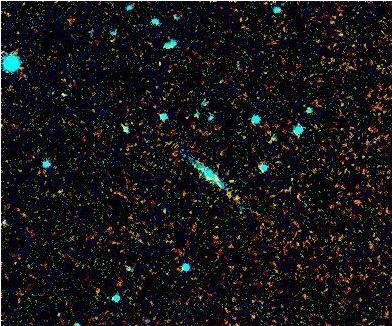star: (222, 184, 252, 214)
